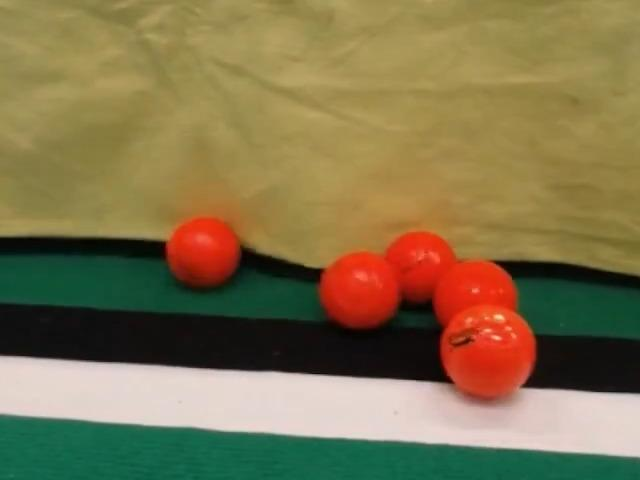Ball: (440, 305, 536, 399), (318, 251, 400, 329), (165, 217, 241, 289), (433, 260, 517, 325), (384, 230, 456, 304)
